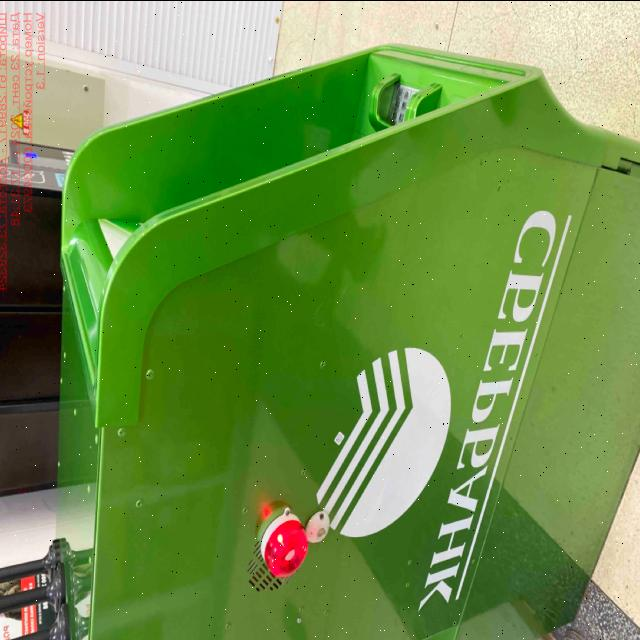bank: (58, 42, 640, 640)
